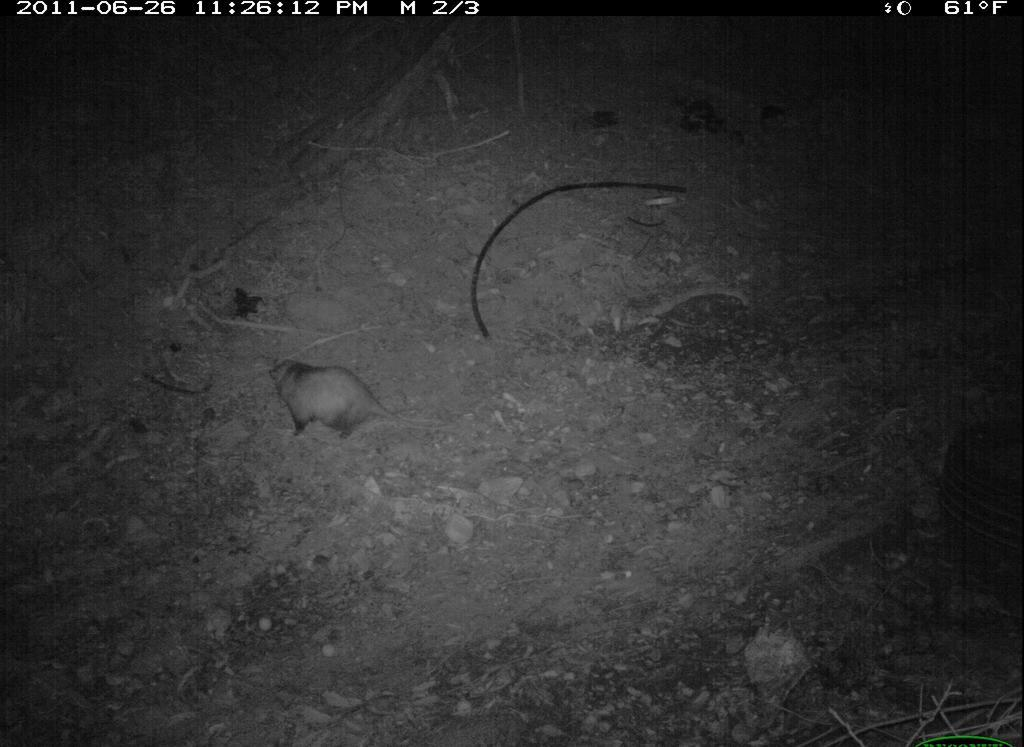opossum: (264, 351, 456, 445)
